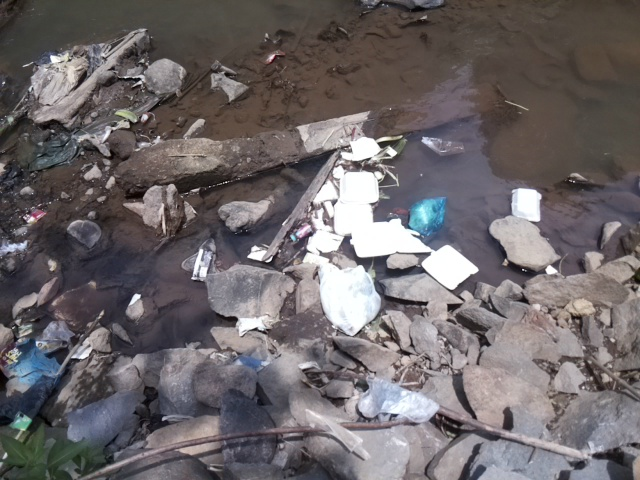Sampah_Botol_Plastik: (288, 222, 316, 243)
Sampah_Plastik: (317, 267, 385, 336), (357, 372, 442, 424), (408, 196, 446, 238), (420, 135, 470, 157), (191, 247, 213, 284), (20, 205, 48, 226)
Sampah_Styrofoam: (329, 200, 432, 254), (421, 244, 478, 287), (335, 167, 381, 203), (510, 186, 543, 223), (342, 137, 382, 165), (307, 231, 341, 254)
